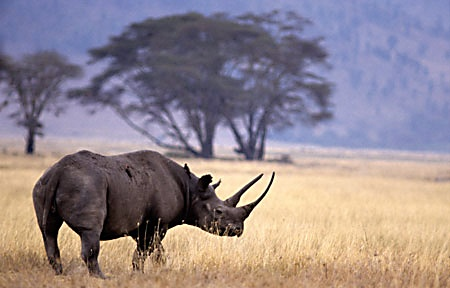rhino: (32, 150, 276, 281)
